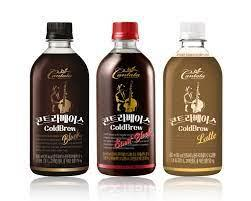contrabass_sweetblack: (93, 21, 159, 179)
